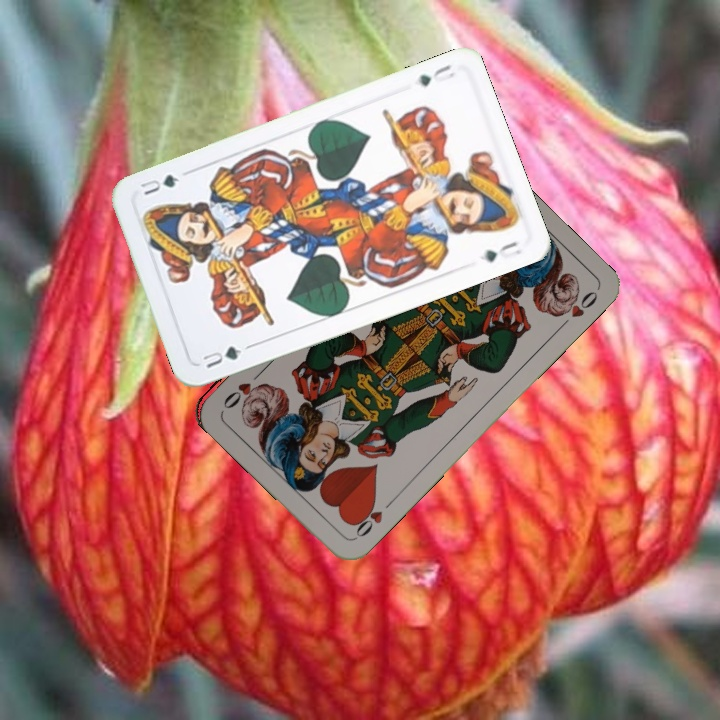GU: (198, 341, 253, 371), (414, 60, 458, 89)
HO: (347, 495, 397, 542)
